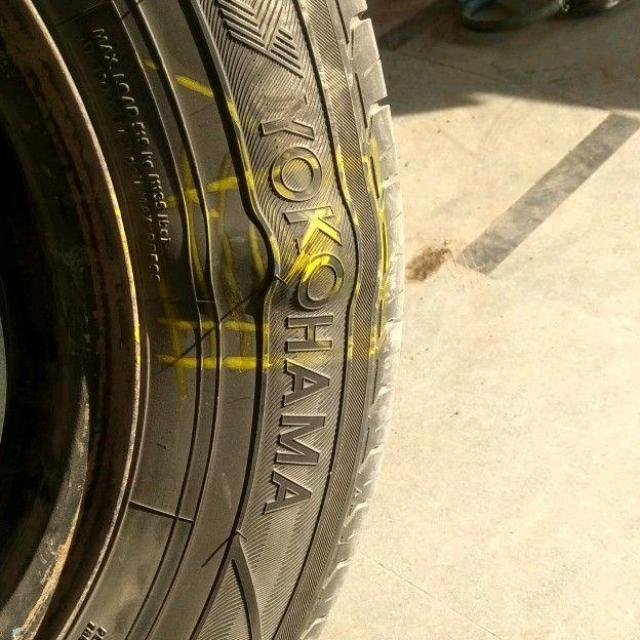Bulge: (136, 184, 377, 312)
